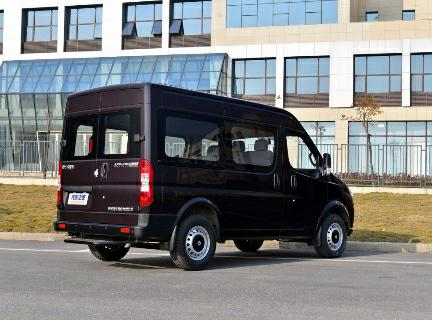东风-御风: (52, 82, 362, 276)
